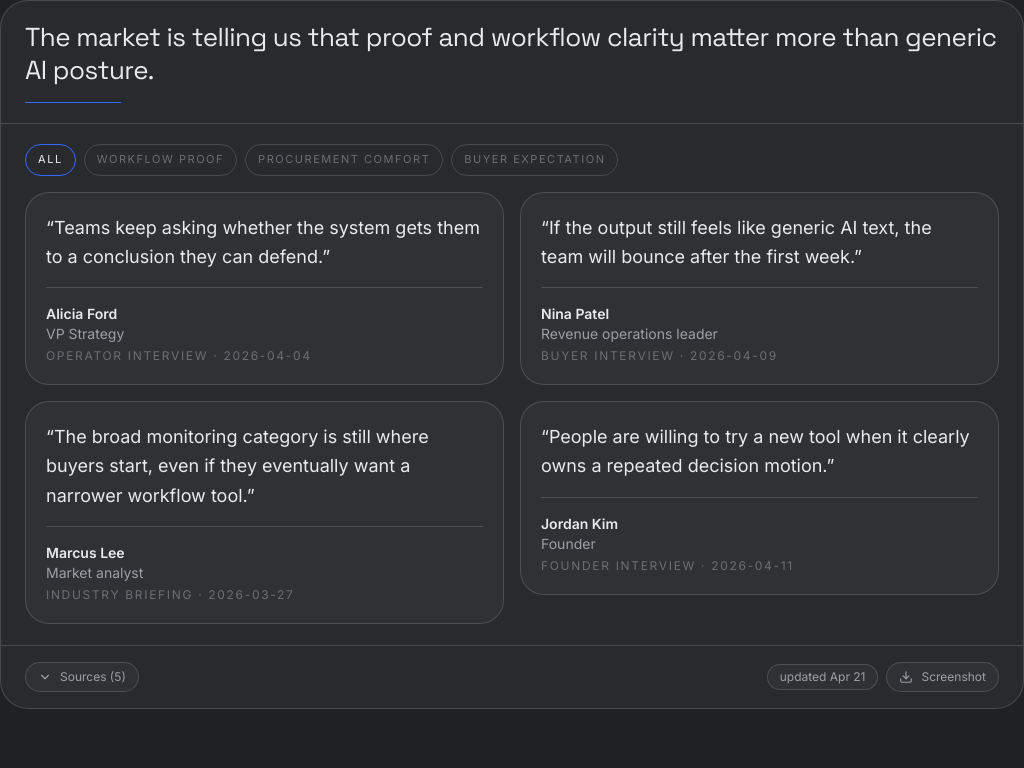
Test: QuoteWall › filters cards when a theme chip is clicked and resets on All
Step 1. Click the button "Workflow proof" → (160, 160), box [84,144,237,176]
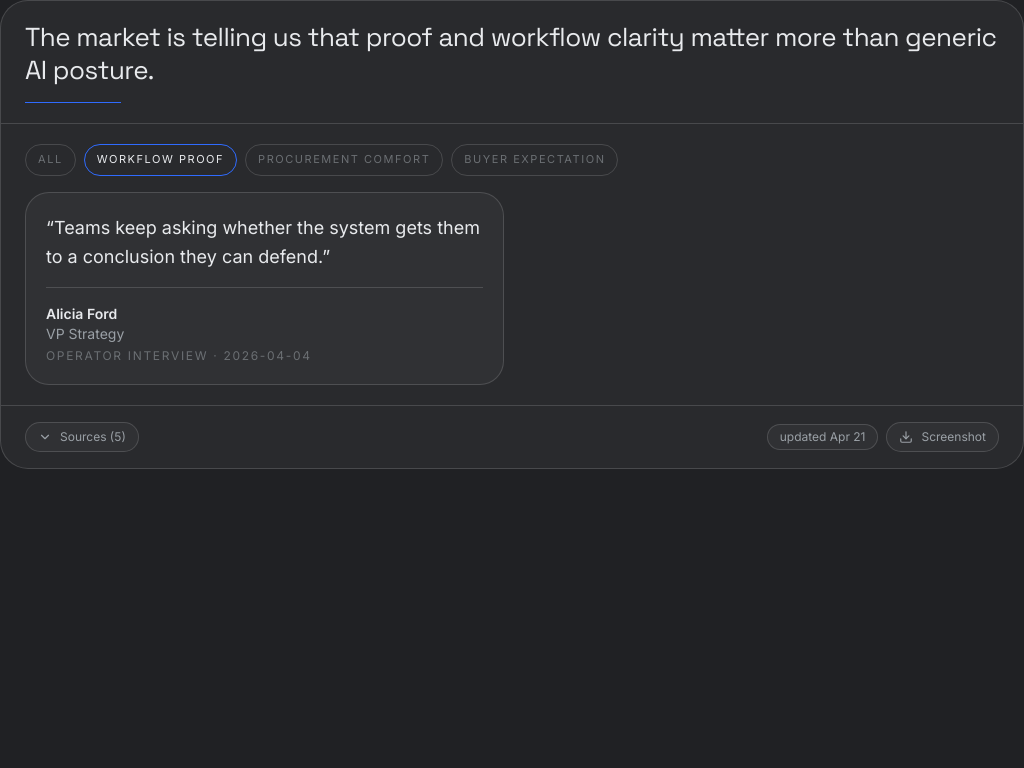
Check: the text "Teams keep asking whether the system gets them to a conclusion they can defend" is shown, box [46,217,480,267]
Check: the number of elements with test id "quote-card" is 1, box [25,192,504,385]
Step 2. Click the button "All" → (50, 160), box [25,144,76,176]
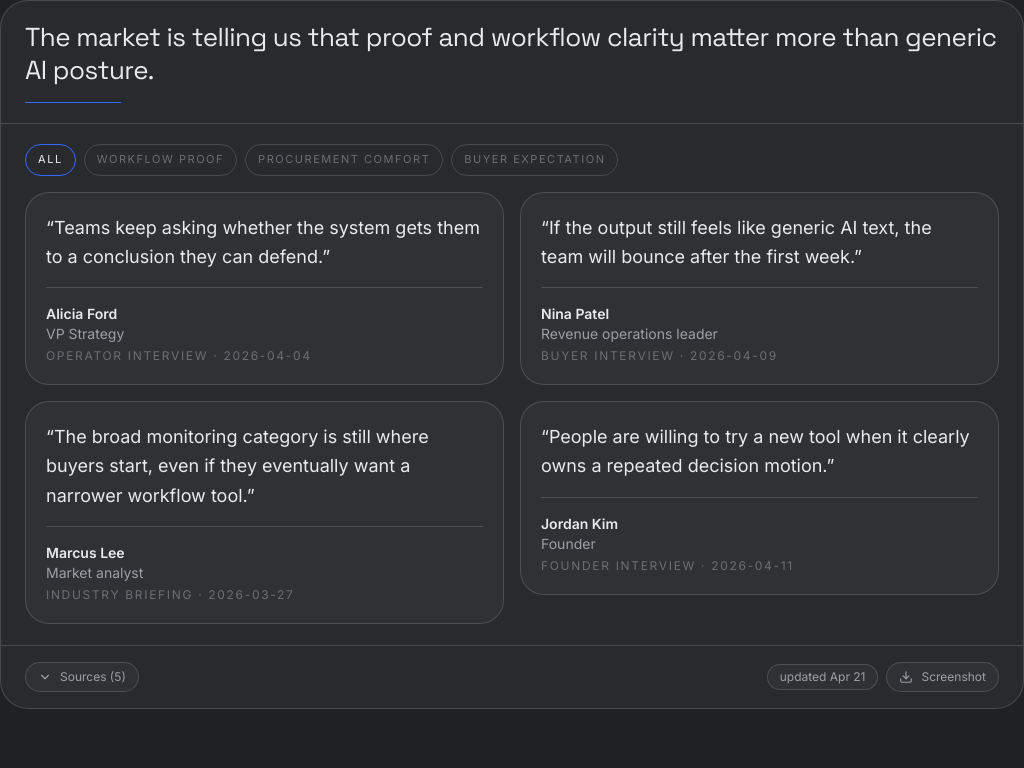
Check: the number of elements with test id "quote-card" is 4, box [25,192,504,385]; [25,401,504,624]; [520,192,999,385]; [520,401,999,595]
